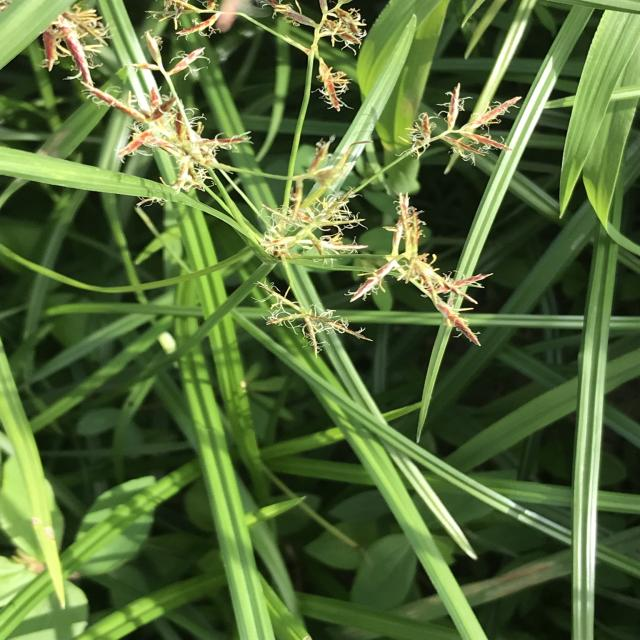cyperus: (238, 79, 528, 359), (26, 0, 376, 211), (6, 0, 378, 163), (366, 194, 490, 334), (255, 146, 365, 266), (408, 81, 508, 175), (255, 275, 360, 363)
